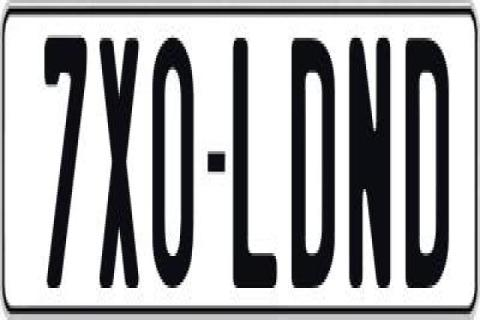0: (150, 29, 194, 291), (43, 38, 88, 288)
D: (404, 32, 452, 294), (292, 29, 338, 294)
L: (233, 32, 285, 300)
N: (348, 32, 388, 300)
X: (98, 32, 142, 288)
